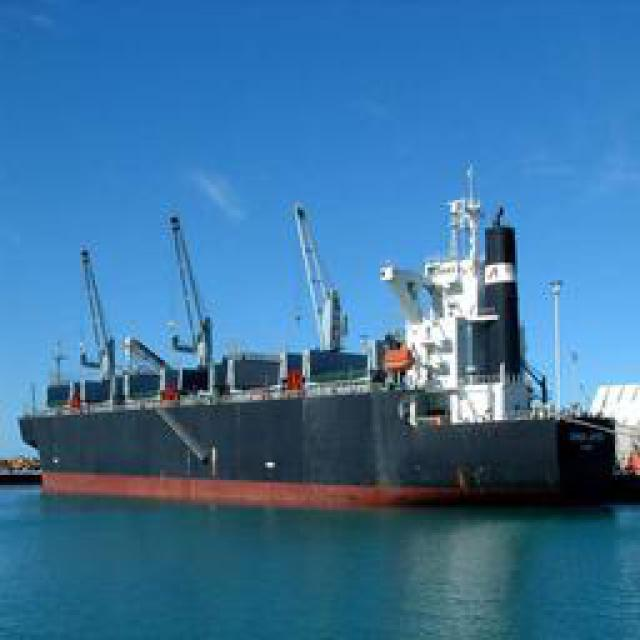Ship: (25, 165, 635, 513)
